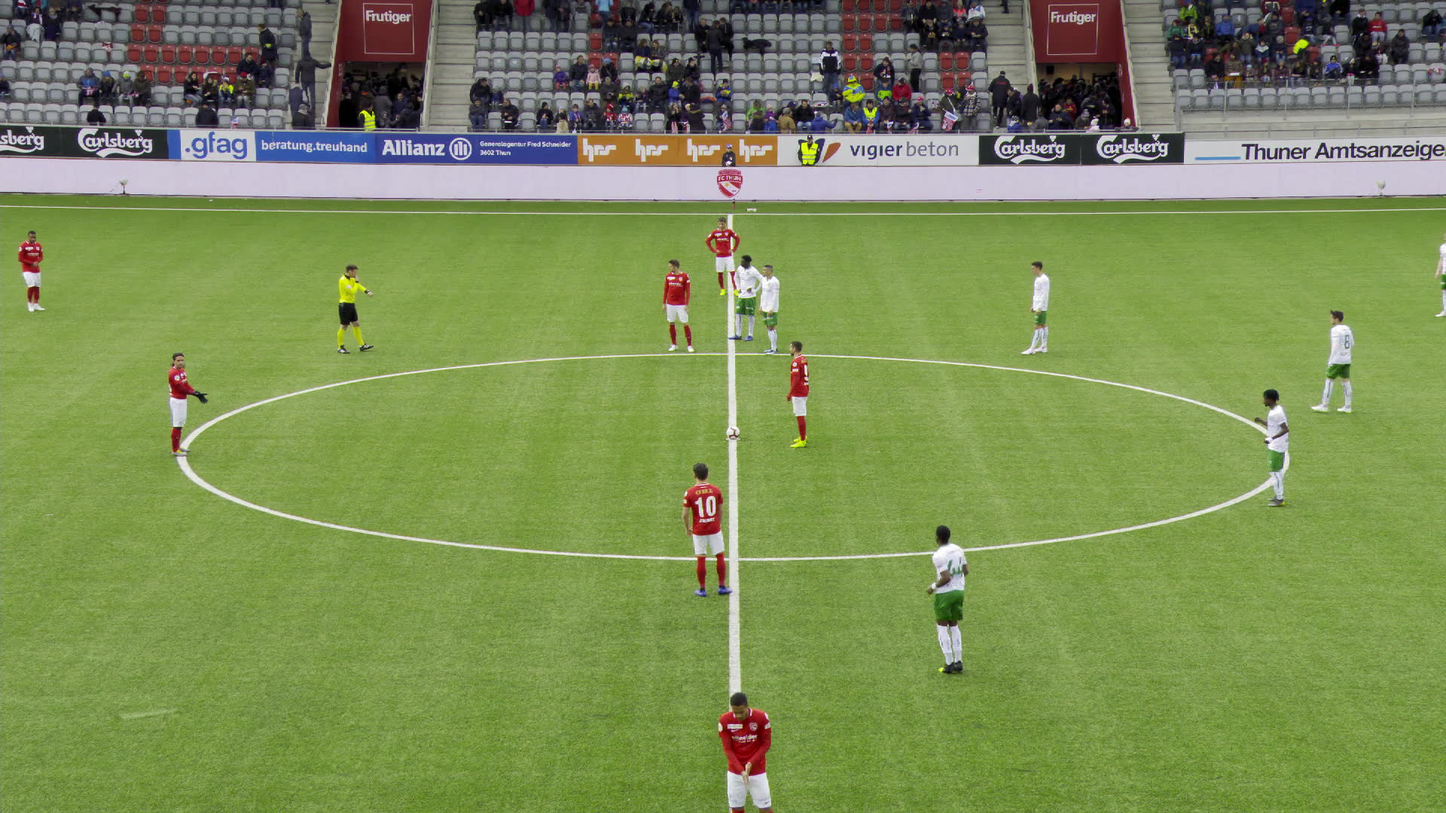ball: (726, 425, 742, 440)
player: (716, 688, 775, 812), (925, 522, 972, 671), (681, 463, 733, 595), (165, 352, 209, 456), (1318, 309, 1359, 415), (1254, 387, 1289, 504), (661, 258, 694, 353), (728, 254, 764, 341), (1019, 260, 1051, 355), (704, 216, 740, 295), (785, 340, 811, 446), (16, 229, 46, 311), (758, 264, 779, 355), (1432, 234, 1445, 318)
referee: (336, 263, 373, 353)
